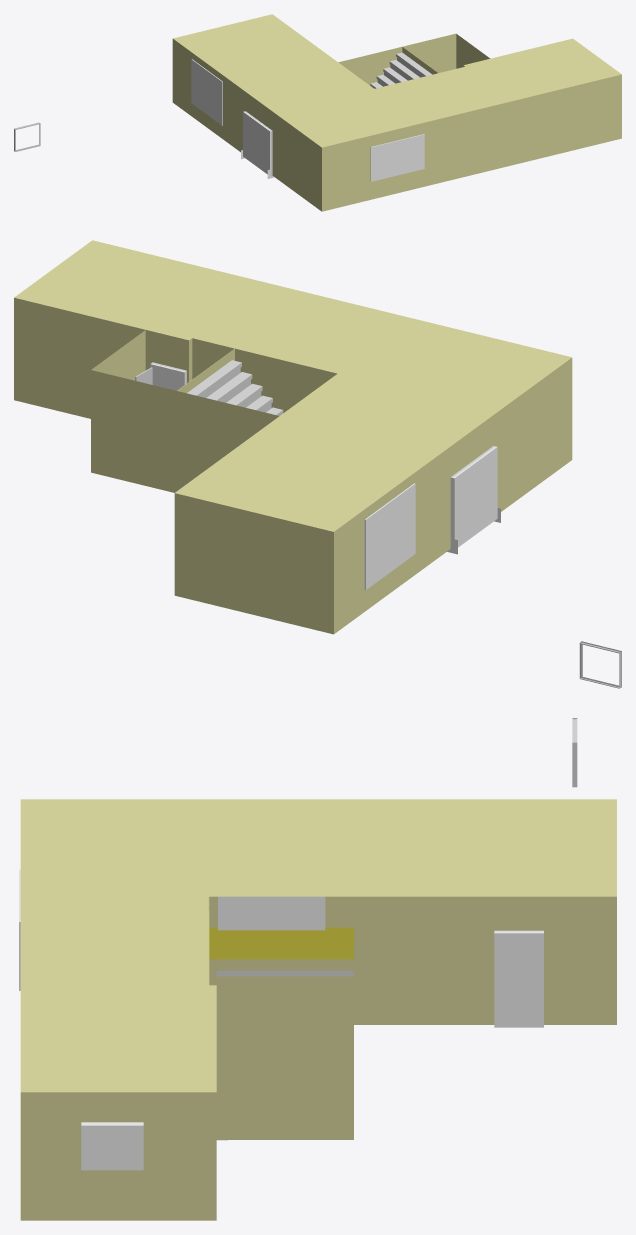
Rendered from house_floor1.fbx.
The picture shows the model from 3 angles, top to bottom: view 1: azimuth 30°, elevation 25°; view 2: azimuth 150°, elevation 25°; view 3: azimuth 270°, elevation 25°; orthographic projection. The views are drawn at different scales.
Visible parts, largest first — view 1: Cube.001, Cube, CTRL_Hole.005, CTRL_Hole.007, CTRL_Hole.004, Stairs; view 2: Cube, Cube.001, CTRL_Hole.007, CTRL_Hole.004, Stairs, CTRL_Hole.001; view 3: Cube, Cube.001, CTRL_Hole.002, Plane.005, CTRL_Hole.004, CTRL_Hole.006, Stairs.
Boxes of the visible parts, x1,y1,x2,y2 form: Cube.001: [274, 38, 621, 211]; Cube: [172, 14, 489, 176]; CTRL_Hole.005: [370, 134, 424, 181]; CTRL_Hole.007: [191, 59, 222, 125]; CTRL_Hole.004: [243, 111, 271, 176]; Stairs: [370, 52, 431, 88]; Cube: [91, 330, 496, 634]; Cube.001: [14, 240, 572, 511]; CTRL_Hole.007: [364, 483, 415, 589]; CTRL_Hole.004: [450, 446, 497, 549]; Stairs: [187, 360, 283, 415]; CTRL_Hole.001: [150, 363, 186, 390]; Cube: [209, 799, 616, 1139]; Cube.001: [20, 799, 353, 1220]; CTRL_Hole.002: [494, 931, 543, 1027]; Plane.005: [216, 927, 353, 959]; CTRL_Hole.004: [218, 896, 325, 930]; CTRL_Hole.006: [81, 1122, 143, 1170]; Stairs: [216, 971, 353, 976].
Size of the model in its own units: 2202 by 296 by 1208.
